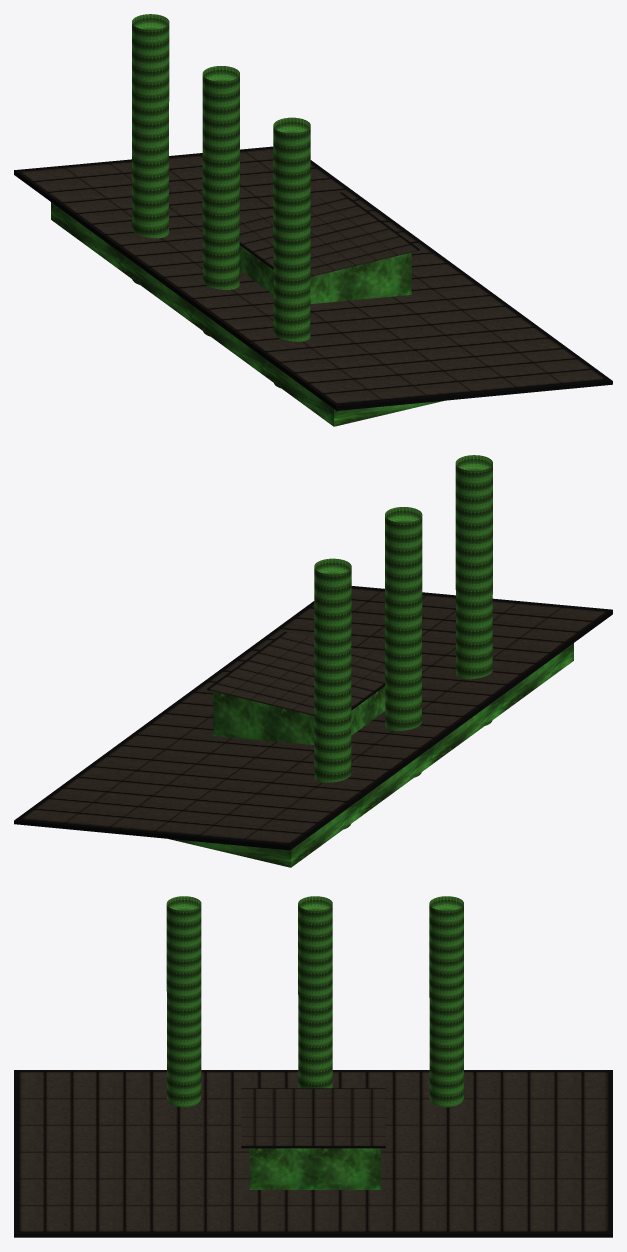
File: Usine1Toit1.obj
3 views of the same model, one above another, from view 1: azimuth 30°, elevation 25°; view 2: azimuth 150°, elevation 25°; view 3: azimuth 270°, elevation 25° (orthographic). The views are drawn at different scales.
Visible parts, largest first — view 1: Plane.024_Plane.042; view 2: Plane.024_Plane.042; view 3: Plane.024_Plane.042.
Boxes of the visible parts, bbox=[...] form: Plane.024_Plane.042: bbox=[14, 14, 612, 426]; Plane.024_Plane.042: bbox=[14, 455, 612, 867]; Plane.024_Plane.042: bbox=[14, 896, 612, 1237].
Size of the model in its own units: 2.26 by 2 by 4.56.
